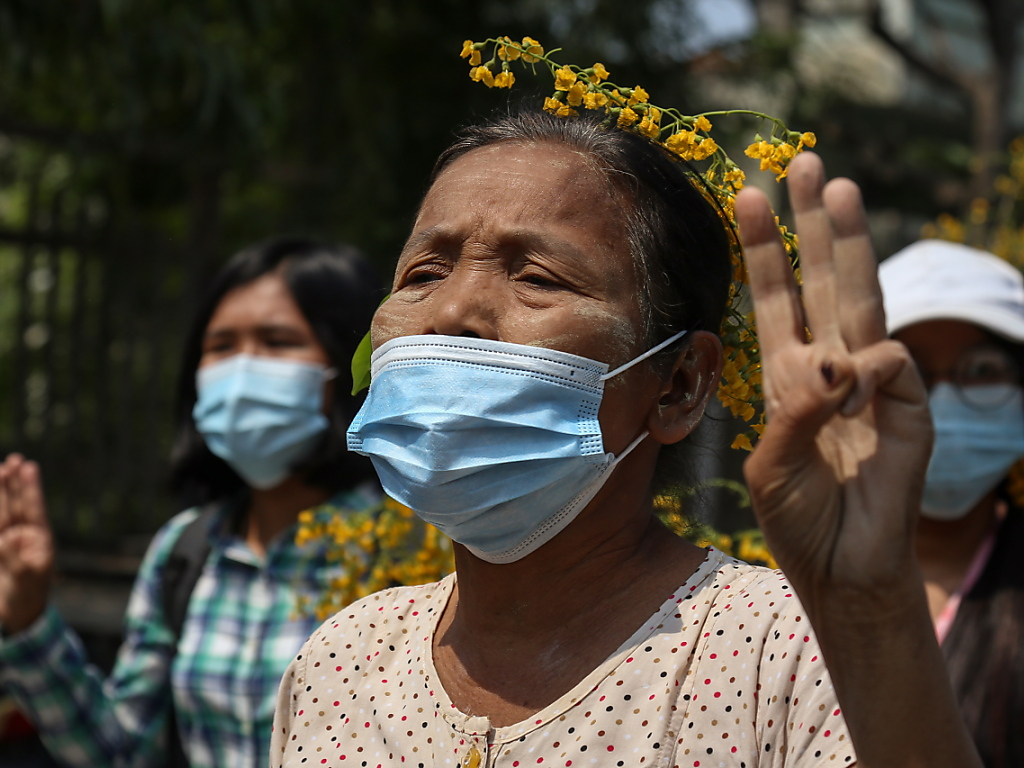with_incorrect_mask: (363, 187, 655, 524)
